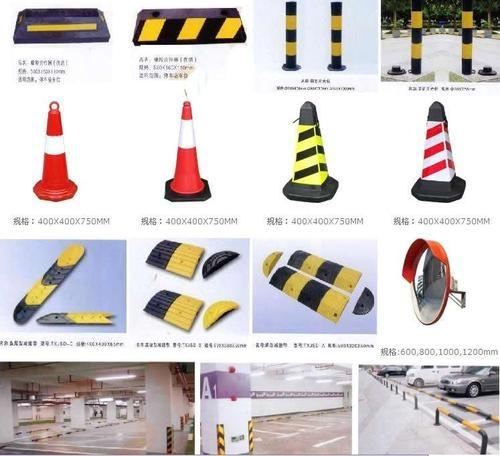cone_barrel: (279, 103, 338, 200), (408, 103, 465, 202), (160, 100, 211, 202), (27, 103, 79, 201), (404, 0, 425, 74), (326, 3, 345, 70), (458, 0, 475, 74), (281, 6, 298, 69)
